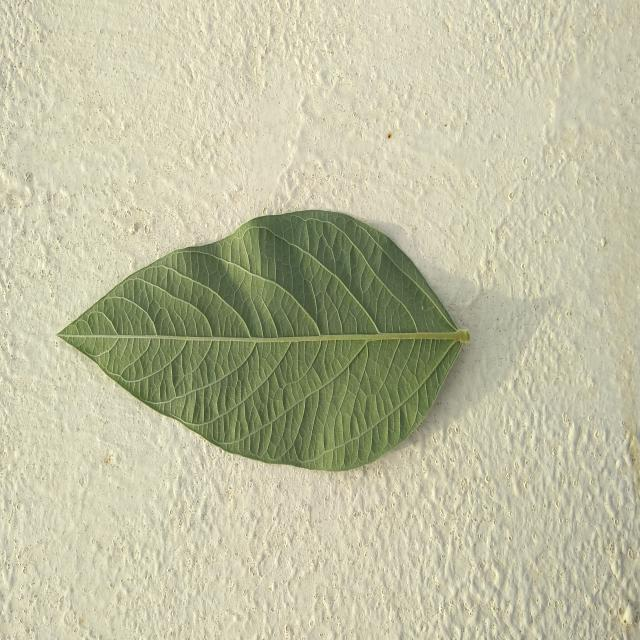pea: (59, 211, 470, 471)
